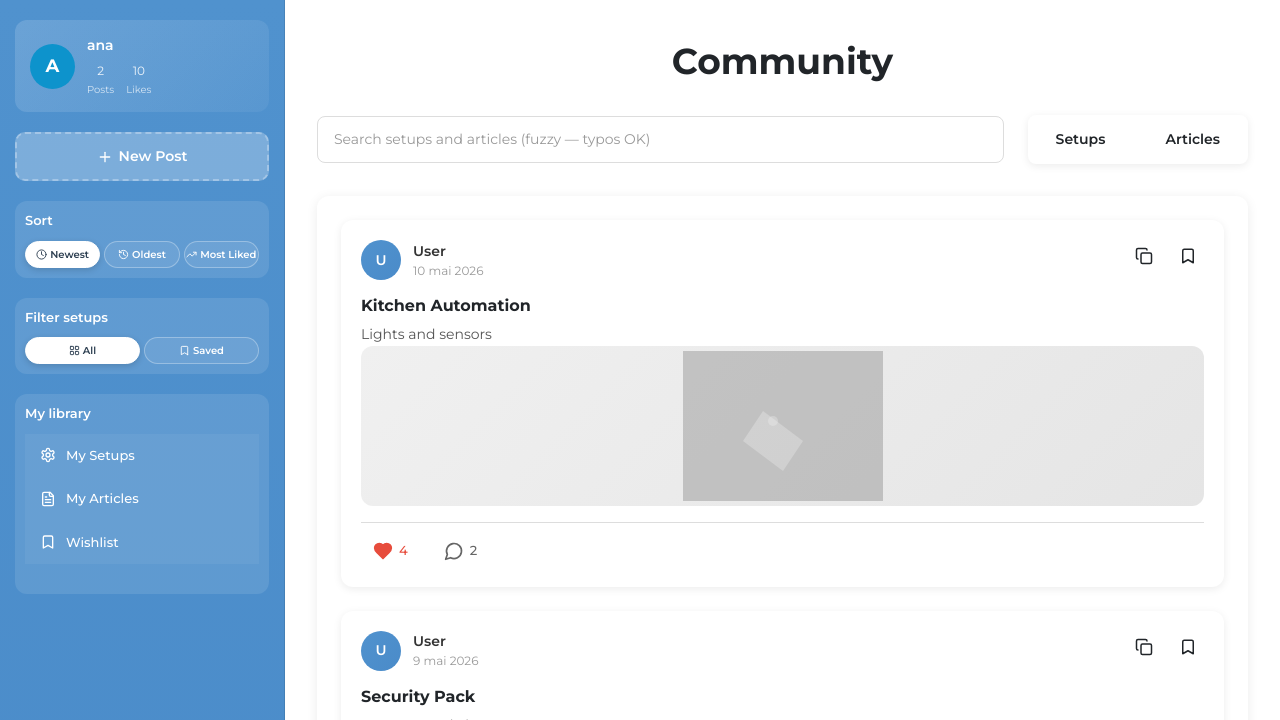
Test case: CommunityPage › loads setups, user stats, wishlist state, and filters setup cards
The image size is (1280, 720).
Expected: the heading "Kitchen Automation" is shown, [361,296,531,315]
Expected: the heading "Security Pack" is shown, [361,687,475,706]
Type "security" into the field with placeholder "Search setups and articles (fuzzy — typos OK)". click: point(660, 140)
box: [317,116,1004,163]
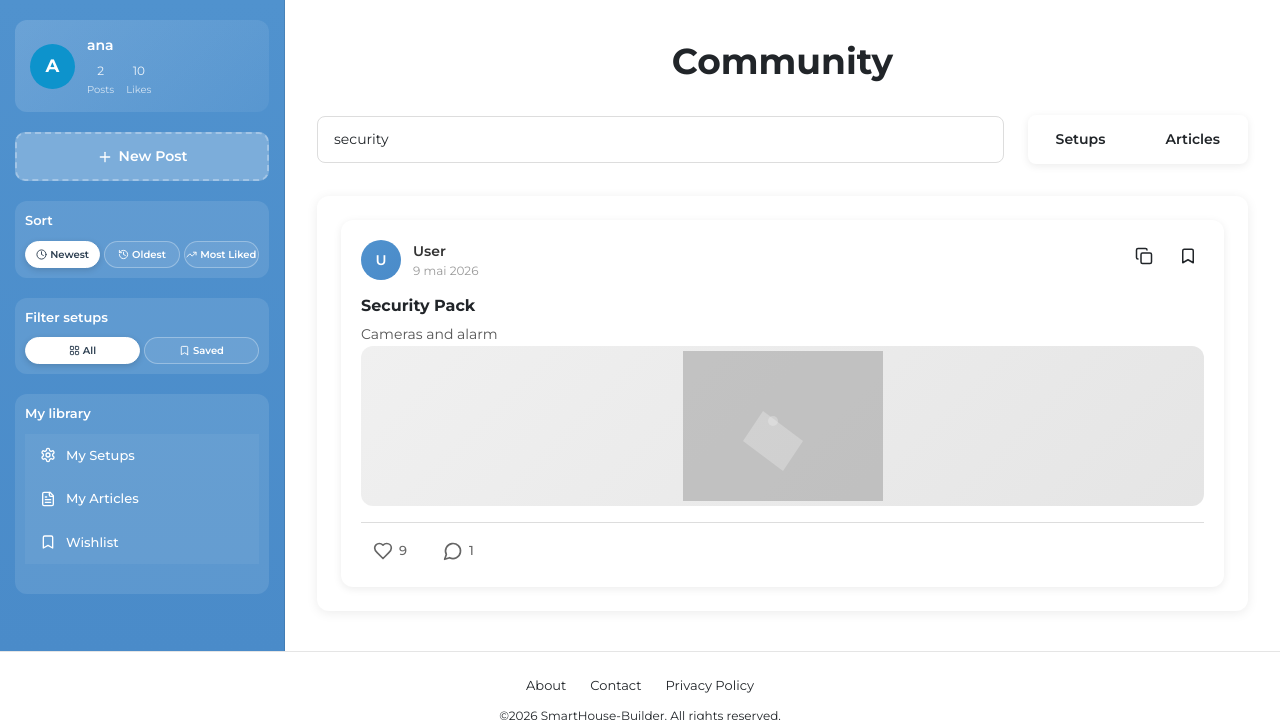
Expected: the heading "Security Pack" is shown, [361,296,475,315]
Expected: the button "Kitchen Automation" is gone
Clear the field with placeholder "Search setups and articles (fuzzy — typos OK)". click: point(660, 140)
box: [317,116,1004,163]
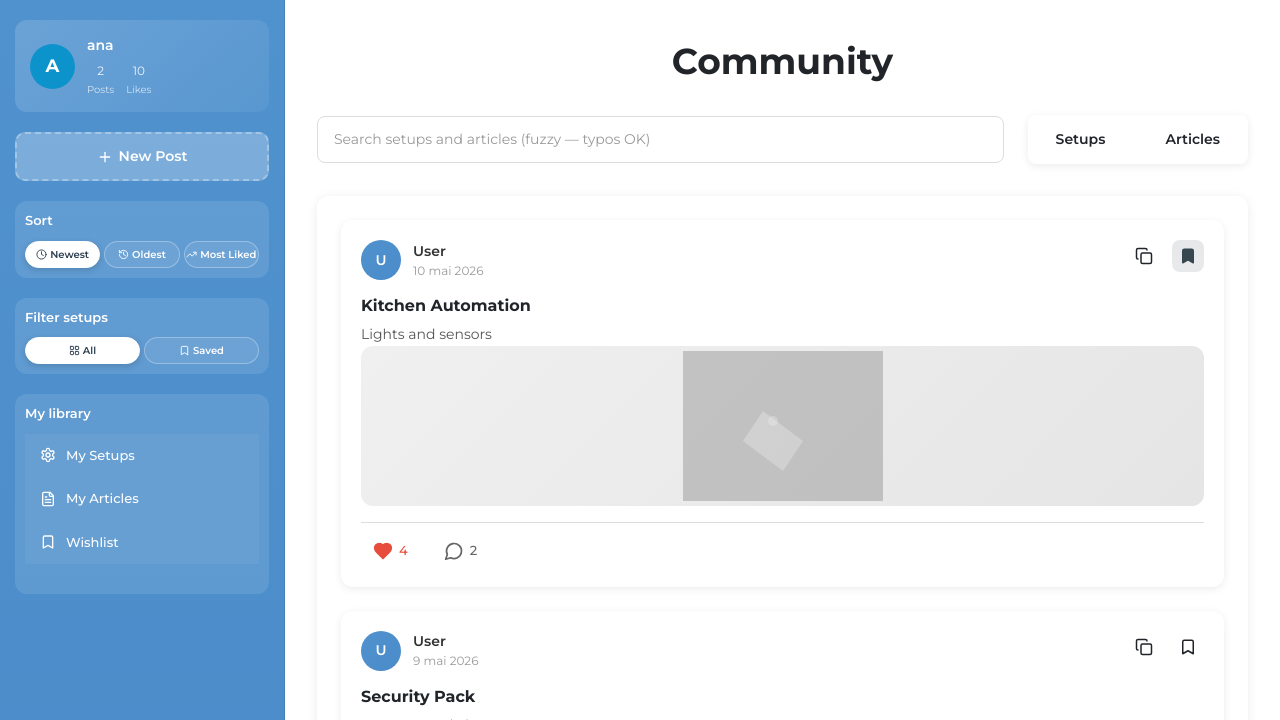
Click the button "Most Liked". click: point(221, 254)
box: [184,240,259,268]
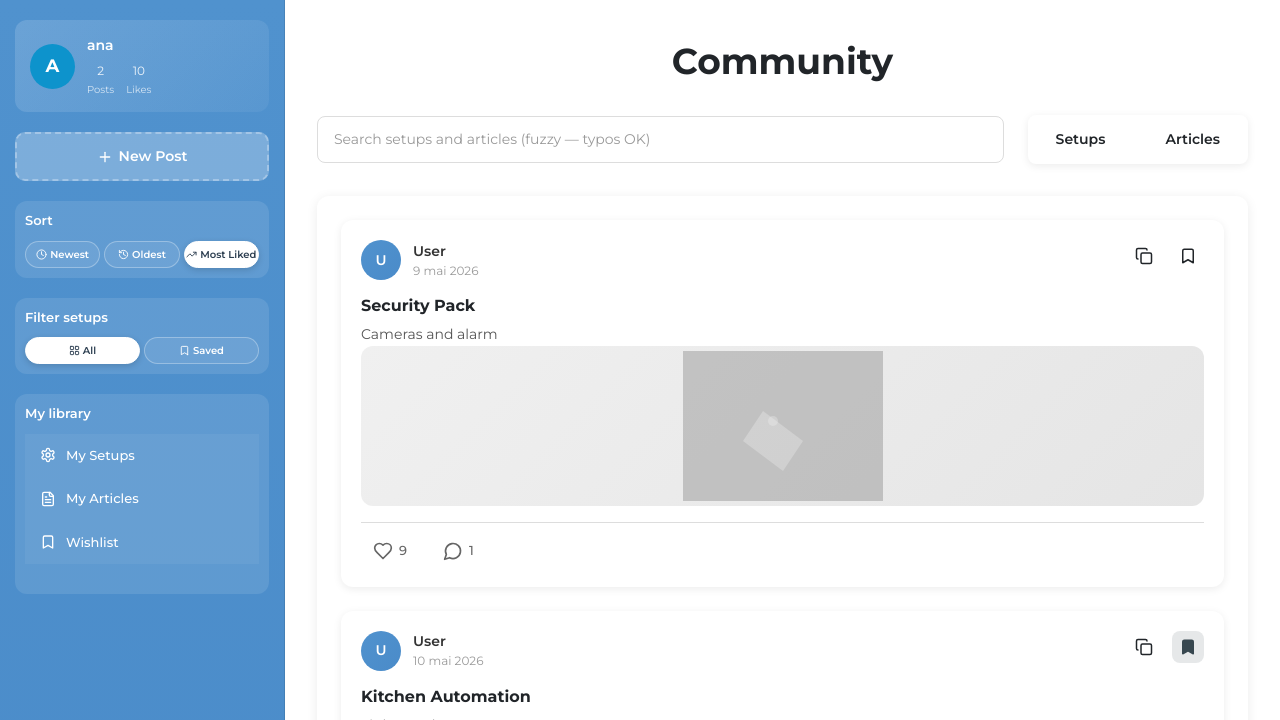
Expected: the heading "Security Pack" is shown, [361,296,475,315]
Click the button "Saved". click: point(202, 350)
box: [144,337,259,364]
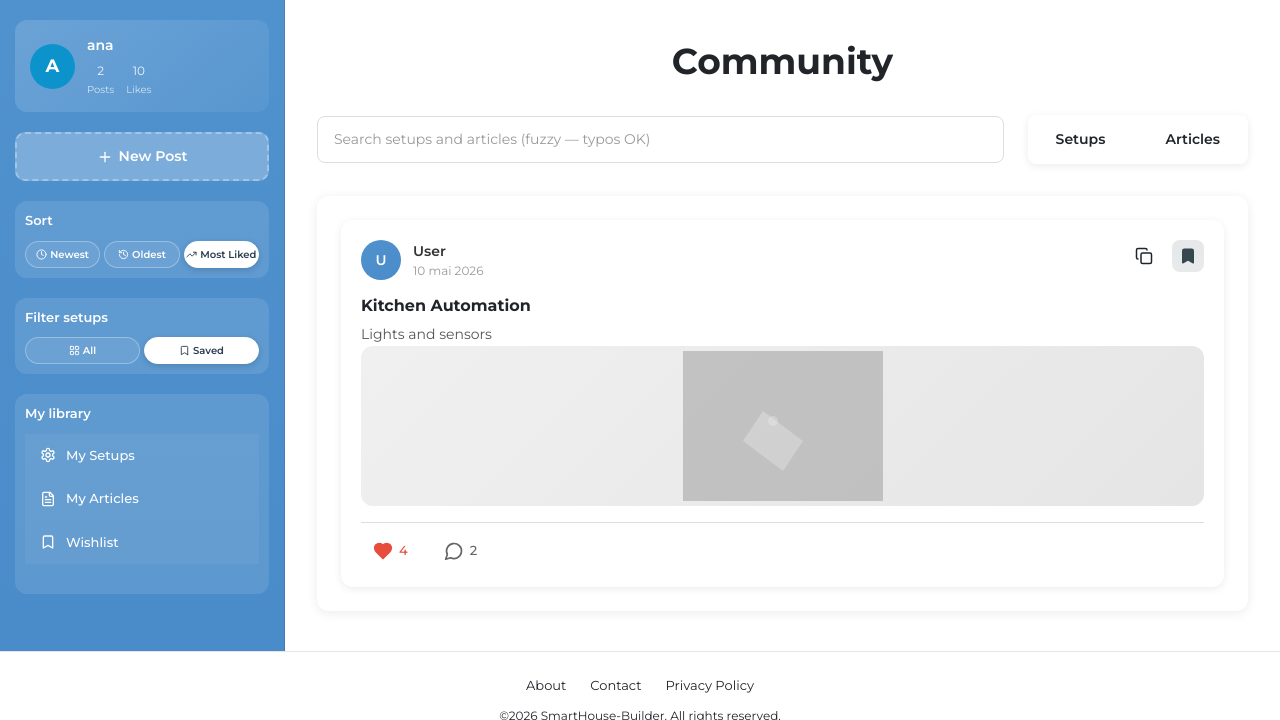
Expected: the heading "Kitchen Automation" is shown, [361,296,531,315]
Expected: the button "Security Pack" is gone
